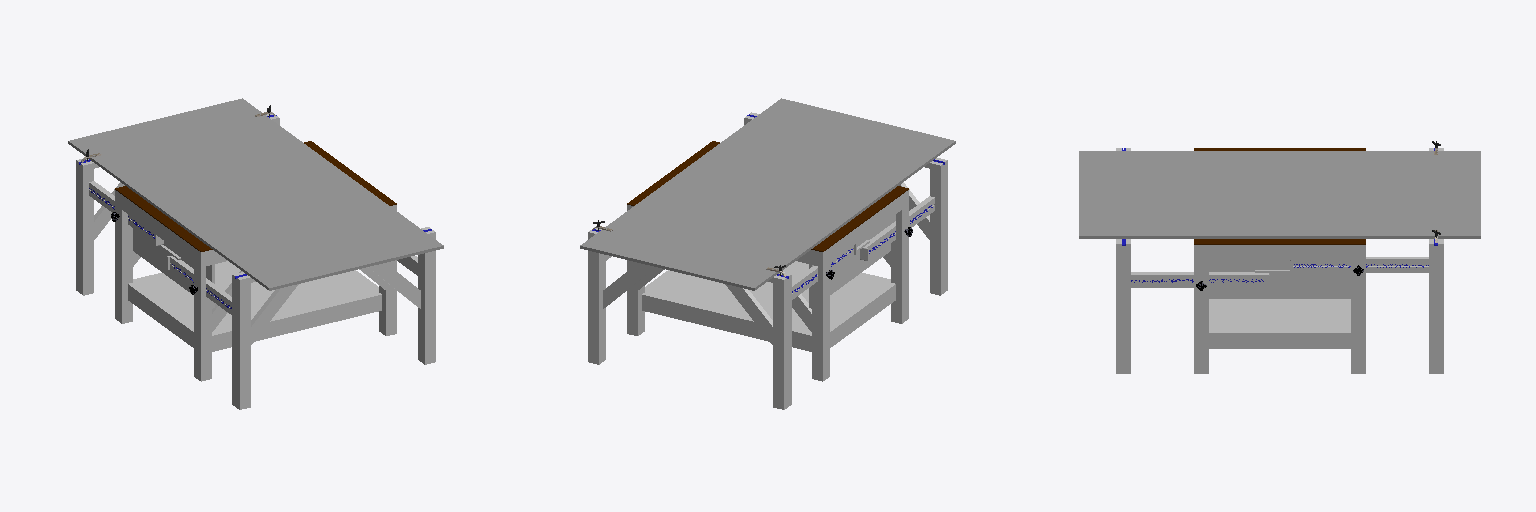
The picture shows the model from 3 angles: view 1: azimuth 30°, elevation 25°; view 2: azimuth 150°, elevation 25°; view 3: azimuth 270°, elevation 25°; orthographic projection.
Parts seen in each view (by area): view 1: mesh220_mesh220-geometry, mesh56_mesh56-geometry, mesh54_mesh54-geometry, mesh60_mesh60-geometry, mesh15.002_mesh15-geometry, mesh15.001_mesh15-geometry, mesh205.001_mesh205-geometry, mesh133.001_mesh133-geometry, mesh46_mesh46-geometry, mesh30.001_mesh30-geometry, mesh40_mesh40-geometry, mesh26_mesh26-geometry (+7 smaller); view 2: mesh220_mesh220-geometry, mesh56_mesh56-geometry, mesh52_mesh52-geometry, mesh60_mesh60-geometry, mesh15.001_mesh15-geometry, mesh15.002_mesh15-geometry, mesh133.001_mesh133-geometry, mesh205.001_mesh205-geometry, mesh46_mesh46-geometry, mesh19.001_mesh19-geometry, mesh40_mesh40-geometry, mesh3_mesh3-geometry (+8 smaller); view 3: mesh220_mesh220-geometry, mesh56_mesh56-geometry, mesh38_mesh38-geometry, mesh48_mesh48-geometry, mesh22.002_mesh22-geometry, mesh22.001_mesh22-geometry, mesh42_mesh42-geometry, mesh200.001_mesh200-geometry, mesh209.001_mesh209-geometry, mesh60_mesh60-geometry, mesh7.002_mesh7-geometry, mesh12.001_mesh12-geometry.
Boxes of the visible parts, x1=… form: mesh220_mesh220-geometry: x1=68, y1=98, x2=443, y2=290; mesh56_mesh56-geometry: x1=128, y1=261, x2=381, y2=338; mesh54_mesh54-geometry: x1=212, y1=297, x2=381, y2=351; mesh60_mesh60-geometry: x1=115, y1=141, x2=396, y2=251; mesh15.002_mesh15-geometry: x1=232, y1=280, x2=244, y2=409; mesh15.001_mesh15-geometry: x1=76, y1=166, x2=88, y2=295; mesh205.001_mesh205-geometry: x1=115, y1=192, x2=127, y2=323; mesh133.001_mesh133-geometry: x1=194, y1=250, x2=205, y2=381; mesh46_mesh46-geometry: x1=133, y1=228, x2=214, y2=308; mesh30.001_mesh30-geometry: x1=418, y1=252, x2=429, y2=364; mesh40_mesh40-geometry: x1=122, y1=197, x2=193, y2=261; mesh26_mesh26-geometry: x1=251, y1=284, x2=298, y2=344; mesh220_mesh220-geometry: x1=580, y1=98, x2=955, y2=290; mesh56_mesh56-geometry: x1=642, y1=261, x2=895, y2=338; mesh52_mesh52-geometry: x1=642, y1=297, x2=811, y2=351; mesh60_mesh60-geometry: x1=627, y1=141, x2=908, y2=251; mesh15.001_mesh15-geometry: x1=779, y1=280, x2=791, y2=409; mesh15.002_mesh15-geometry: x1=935, y1=166, x2=947, y2=295; mesh133.001_mesh133-geometry: x1=896, y1=192, x2=908, y2=323; mesh205.001_mesh205-geometry: x1=818, y1=250, x2=829, y2=381; mesh46_mesh46-geometry: x1=809, y1=215, x2=895, y2=308; mesh19.001_mesh19-geometry: x1=594, y1=252, x2=605, y2=364; mesh40_mesh40-geometry: x1=830, y1=197, x2=901, y2=261; mesh3_mesh3-geometry: x1=725, y1=284, x2=772, y2=344; mesh220_mesh220-geometry: x1=1079, y1=151, x2=1480, y2=238; mesh56_mesh56-geometry: x1=1209, y1=299, x2=1350, y2=334; mesh38_mesh38-geometry: x1=1209, y1=260, x2=1350, y2=298; mesh48_mesh48-geometry: x1=1209, y1=335, x2=1350, y2=348; mesh22.002_mesh22-geometry: x1=1116, y1=250, x2=1130, y2=373; mesh22.001_mesh22-geometry: x1=1429, y1=250, x2=1443, y2=373; mesh42_mesh42-geometry: x1=1209, y1=247, x2=1350, y2=259; mesh200.001_mesh200-geometry: x1=1194, y1=247, x2=1208, y2=373; mesh209.001_mesh209-geometry: x1=1351, y1=247, x2=1365, y2=373; mesh60_mesh60-geometry: x1=1194, y1=148, x2=1365, y2=244; mesh7.002_mesh7-geometry: x1=1131, y1=272, x2=1266, y2=287; mesh12.001_mesh12-geometry: x1=1293, y1=257, x2=1428, y2=272.
Size of the model in its own units: 0.4864 by 0.3143 by 0.8153.
12 materials, 2 textured.